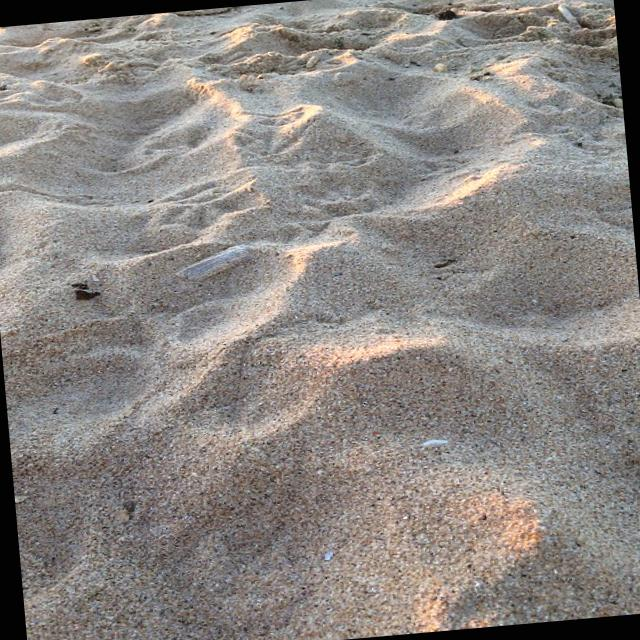Trash: (171, 244, 255, 282), (73, 268, 114, 302), (420, 433, 462, 451)
